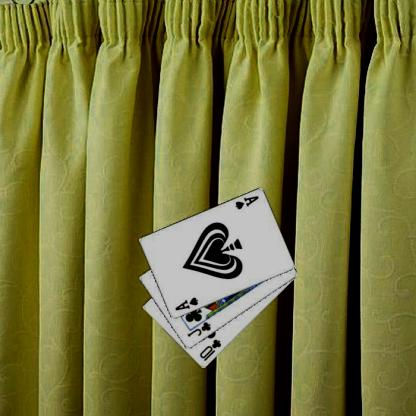10C: (197, 337, 222, 362)
AS: (232, 194, 260, 211), (172, 295, 199, 312)
JC: (185, 320, 212, 338)
